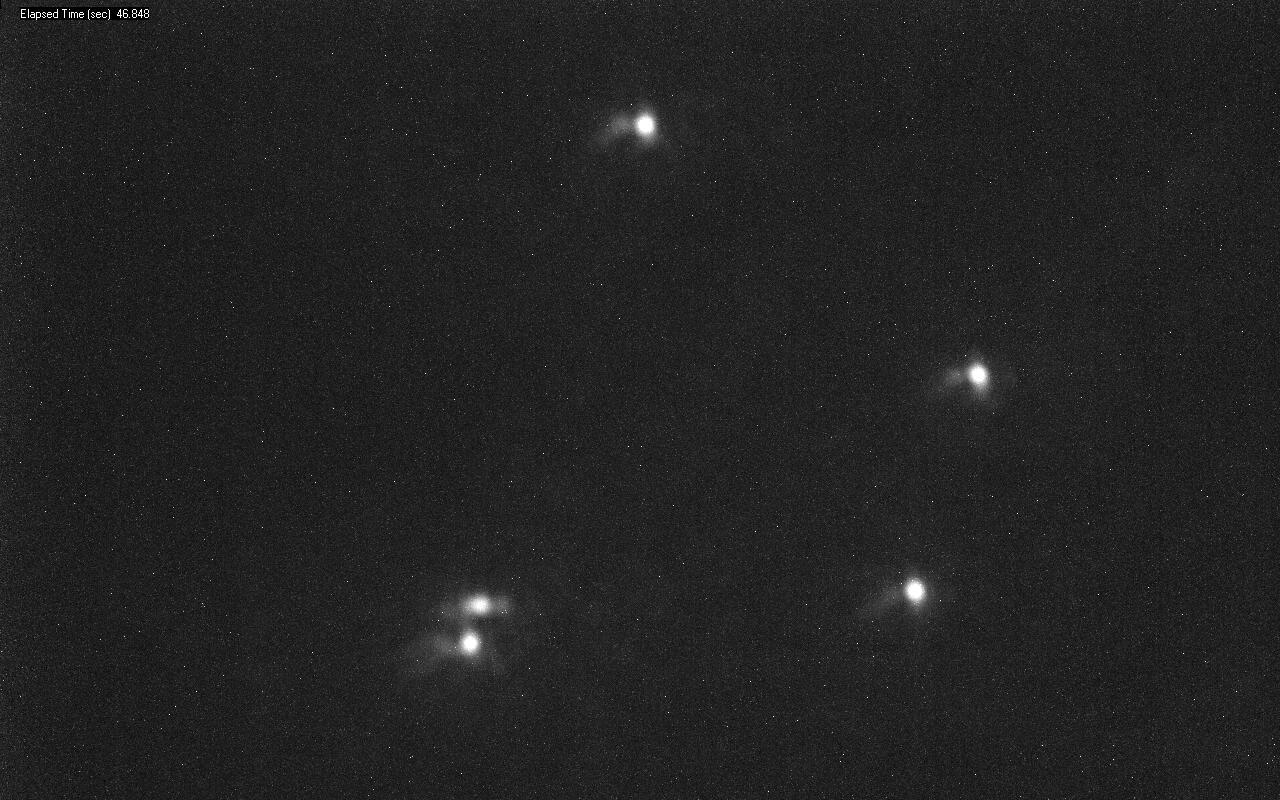Bead: (963, 362, 988, 388), (904, 578, 926, 605), (458, 631, 482, 655), (635, 114, 655, 140), (469, 598, 491, 612)
